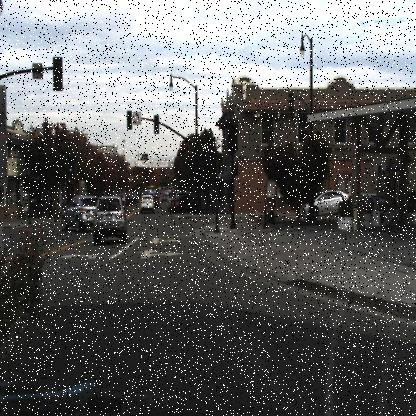car: (58, 191, 98, 232), (92, 196, 127, 242), (303, 188, 349, 215), (170, 194, 196, 210), (138, 193, 154, 214)
trafficLight-Green: (152, 116, 159, 133)
trafficLight-GreenLeft: (69, 158, 75, 180)
trafficLight-RedLeft: (126, 112, 132, 128)
